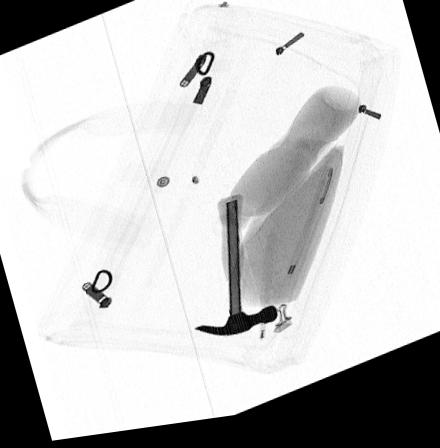Hammer: (191, 201, 278, 343)
